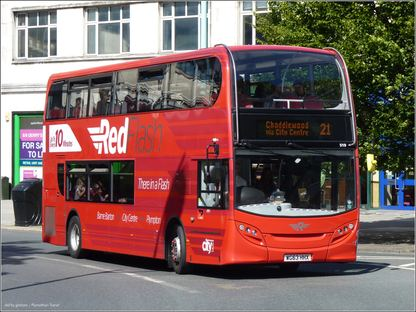bus: (41, 42, 380, 274)
